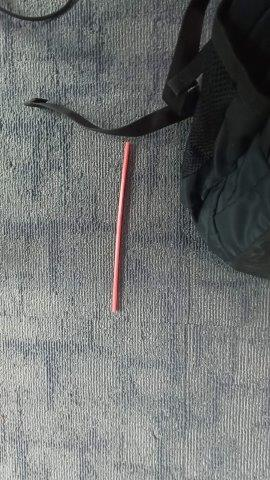sedotan: (112, 143, 129, 311)
